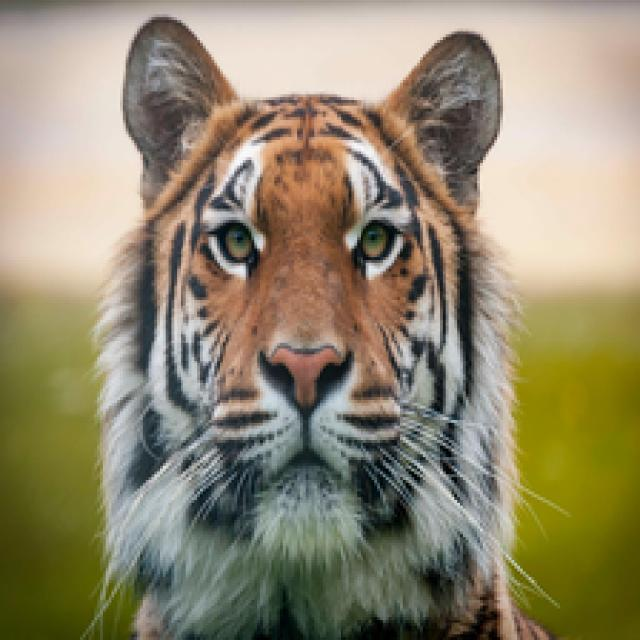tiger: (84, 13, 550, 640)
